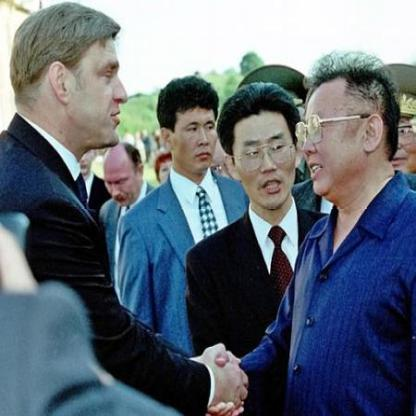face: (67, 15, 138, 155), (294, 76, 367, 201), (236, 94, 296, 212), (172, 87, 223, 175), (104, 149, 141, 210)
